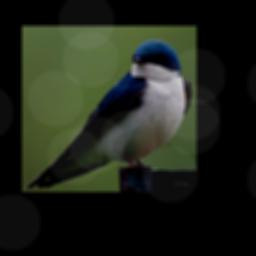Swallow: (26, 38, 193, 191)
